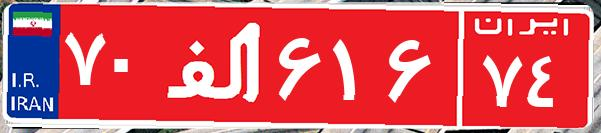0: (110, 28, 158, 105)
1: (330, 28, 385, 110)
4: (525, 38, 570, 115)
6: (385, 28, 445, 110), (273, 28, 330, 110)
7: (57, 26, 110, 107), (475, 38, 525, 113)
الف: (158, 15, 273, 115)
